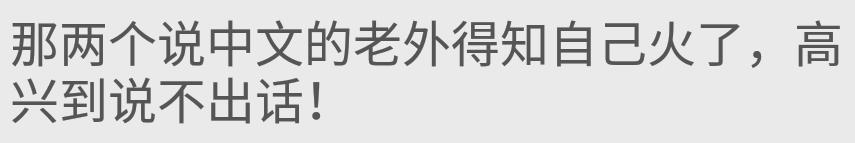TextView: (1, 1, 854, 142)
